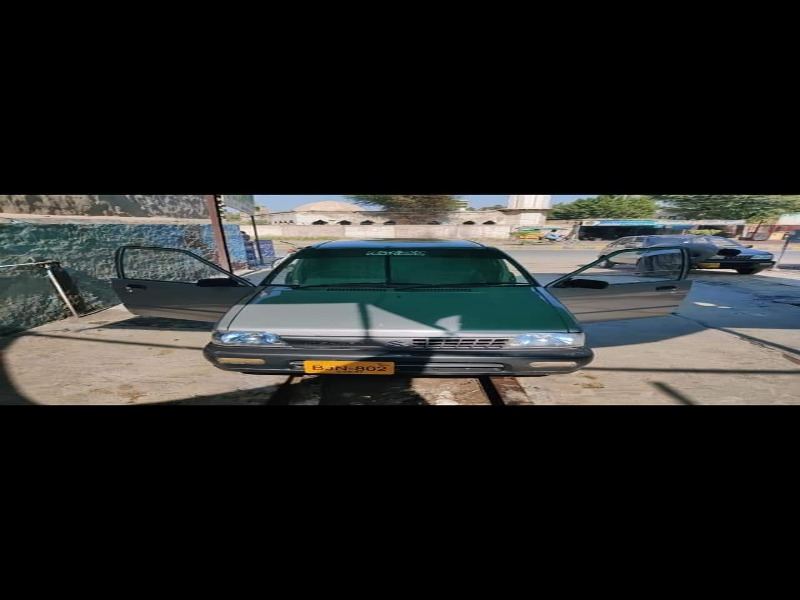License Plate: (301, 357, 397, 385)
